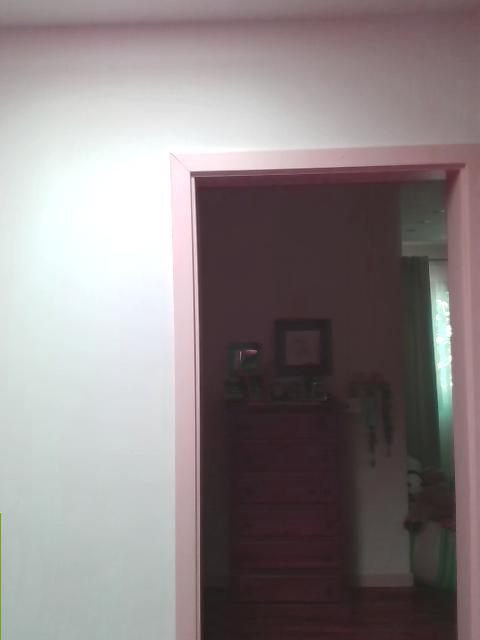open_door: (181, 156, 471, 639)
